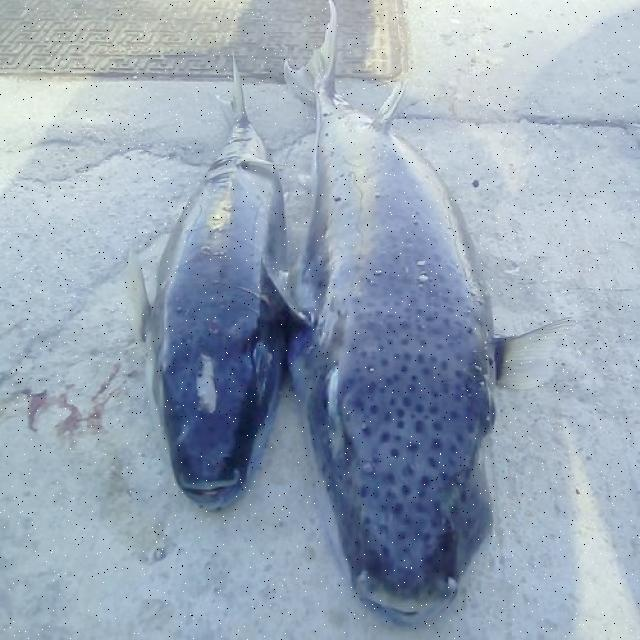Balik: (286, 2, 569, 623), (127, 62, 285, 509)
